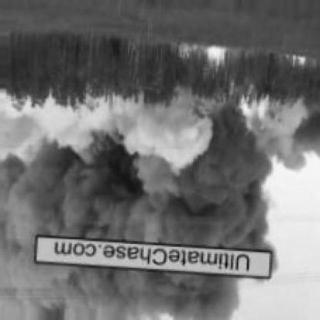Fire: (176, 38, 232, 80), (275, 52, 311, 76)
Smoke: (7, 120, 273, 318)
